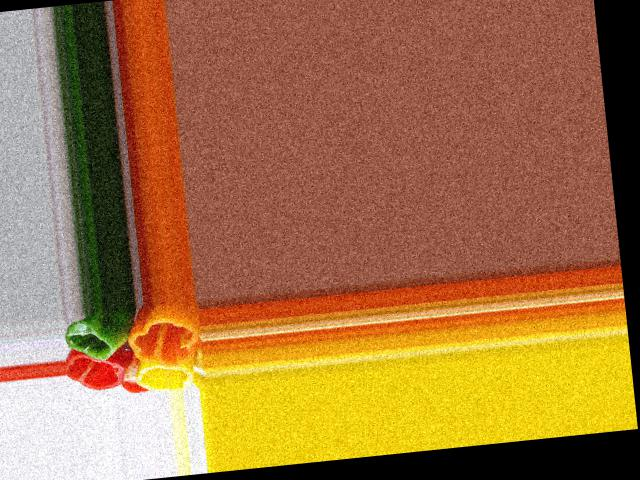bell_pepper: (67, 352, 127, 394)
